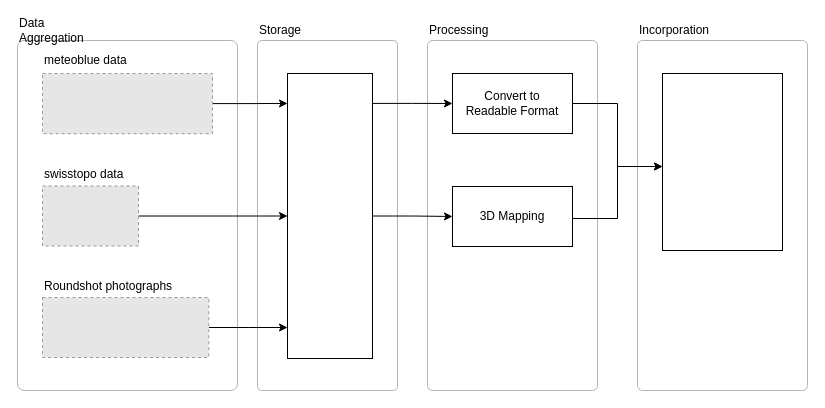
Image size: 825x408. Some labels were removed from this diagram. Grey dashed boxes stand in for pictures. The shapes that lost their labels are listed below. From the top down, each one's centre as x and y in pixels, then its label:
pixel 722 161: Weather rendering system
pixel 329 215: Local File Storage
